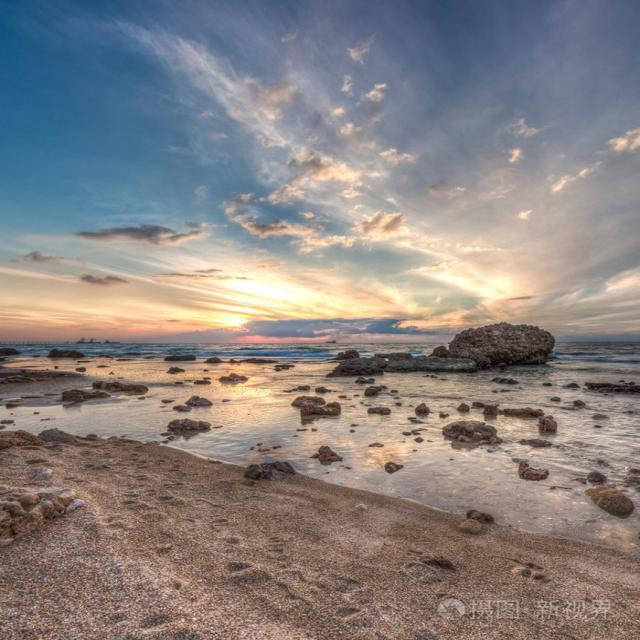reef: (294, 330, 582, 393)
